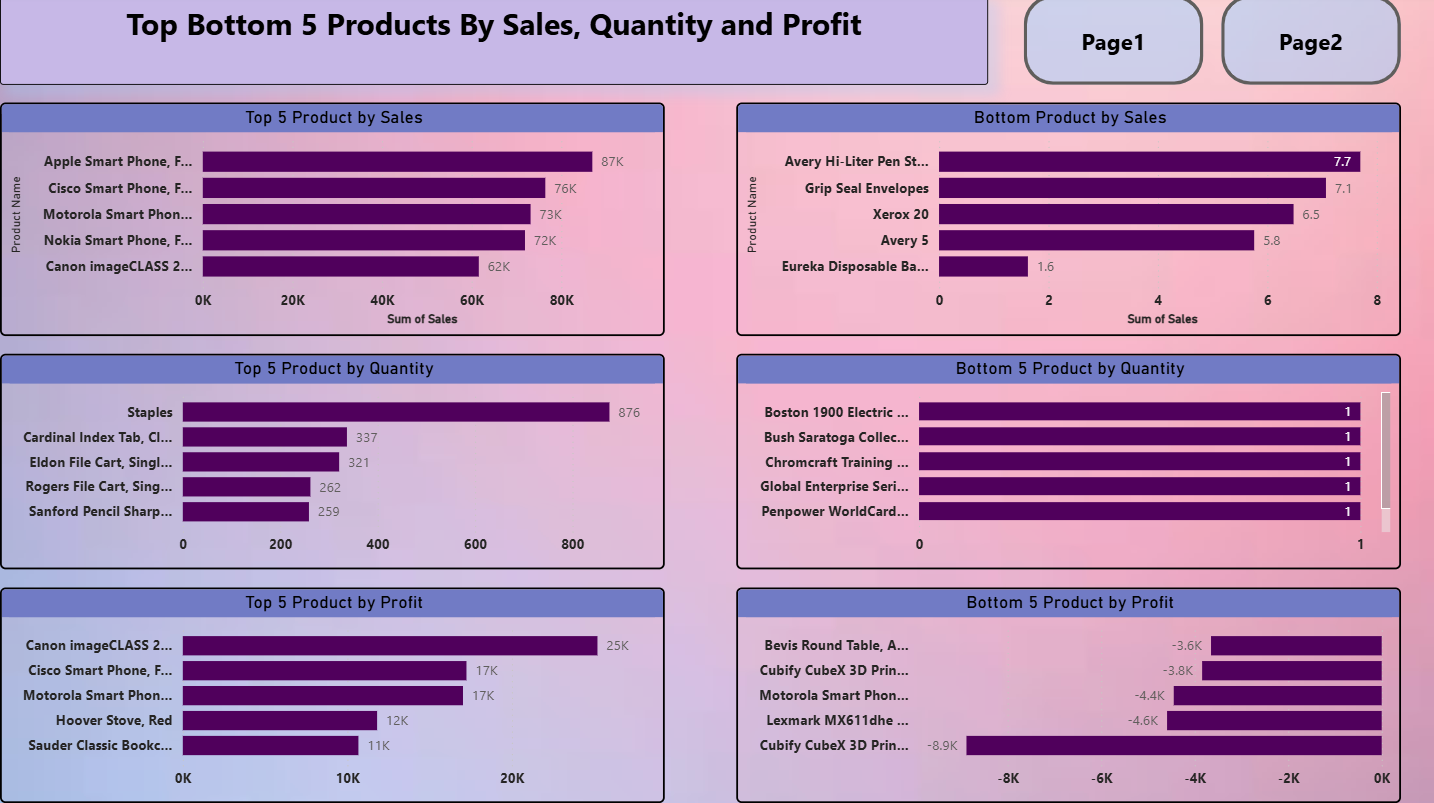

What the dashboard file says about the page in this screenshot:
{"tool":"powerbi","page":{"name":"Page 3","canvas":[1280,720],"ordinal":2},"visuals":[{"type":"textbox","box":[0,0,880,80],"z":3000},{"type":"barChart","title":"Top 5 Product by Sales","fields":{"Category":["Global_Superstore2.Product Name"],"Y":["Sum(Global_Superstore2.Sales)"]},"box":[0,96,592,208],"z":4000},{"type":"barChart","title":" Top 5 Product by Quantity","fields":{"Category":["Global_Superstore2.Product Name"],"Y":["Sum(Global_Superstore2.Quantity)"]},"box":[0,320,592,192],"z":5000},{"type":"barChart","title":" Top 5 Product by Profit","fields":{"Category":["Global_Superstore2.Product Name"],"Y":["Sum(Global_Superstore2.Profit)"]},"box":[0,528,592,192],"z":6000},{"type":"barChart","title":"Bottom Product by Sales","fields":{"Category":["Global_Superstore2.Product Name"],"Y":["Sum(Global_Superstore2.Sales)"]},"box":[656,96,592,208],"z":7000},{"type":"barChart","title":"Bottom 5  Product by Quantity","fields":{"Category":["Global_Superstore2.Product Name"],"Y":["Sum(Global_Superstore2.Quantity)"]},"box":[656,320,592,192],"z":8000},{"type":"barChart","title":"Bottom 5 Product by Profit","fields":{"Category":["Global_Superstore2.Product Name"],"Y":["Sum(Global_Superstore2.Profit)"]},"box":[656,528,592,192],"z":9000},{"type":"actionButton","title":"Overview2","box":[912,0,160,80],"z":10000},{"type":"actionButton","title":"Overview2","box":[1088,0,160,80],"z":10001}]}

Visuals, with their boxes in screenshot pixels (x1, y1, x2, y2), scaled from the page's 1280x720 canvas onto the 1434x803 screenshot:
textbox: <box>0,0,986,89</box>
"Top 5 Product by Sales" barChart: <box>0,107,663,339</box>
" Top 5 Product by Quantity" barChart: <box>0,357,663,571</box>
" Top 5 Product by Profit" barChart: <box>0,589,663,802</box>
"Bottom Product by Sales" barChart: <box>735,107,1398,339</box>
"Bottom 5  Product by Quantity" barChart: <box>735,357,1398,571</box>
"Bottom 5 Product by Profit" barChart: <box>735,589,1398,802</box>
"Overview2" actionButton: <box>1022,0,1201,89</box>
"Overview2" actionButton: <box>1219,0,1398,89</box>
